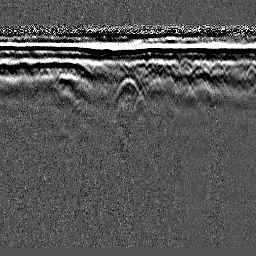cavity: (117, 75, 141, 103)
